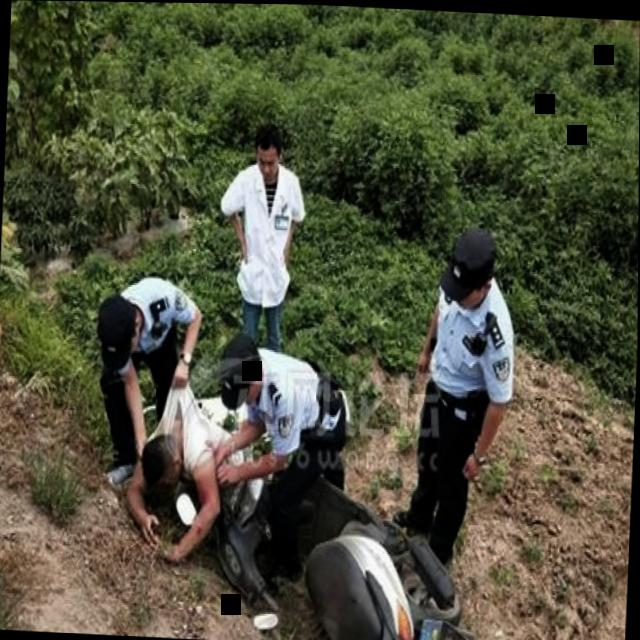Fall-Detected: (110, 382, 279, 584)
